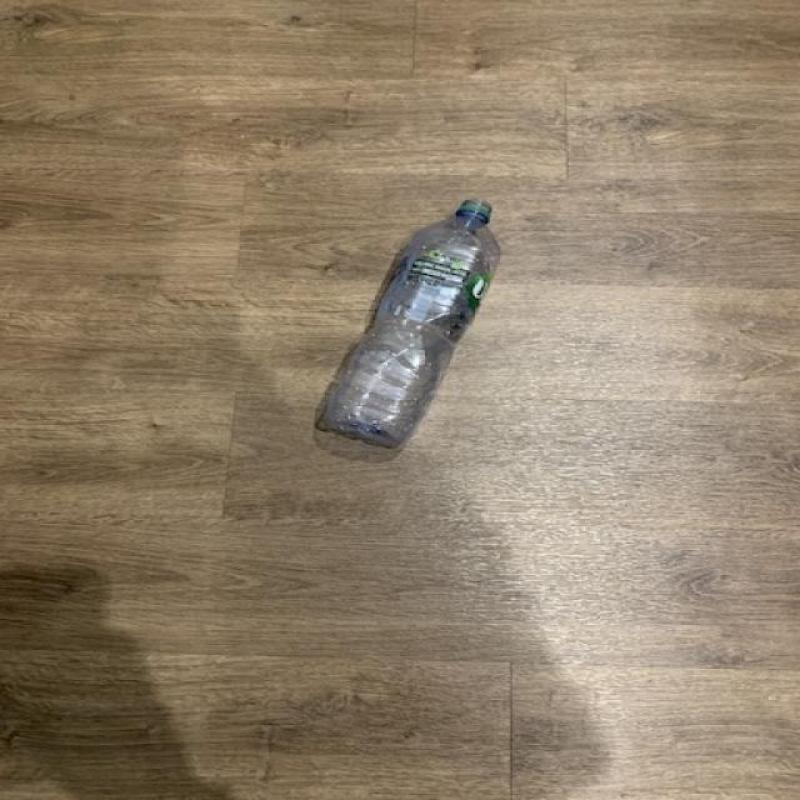botella: (315, 200, 501, 449)
